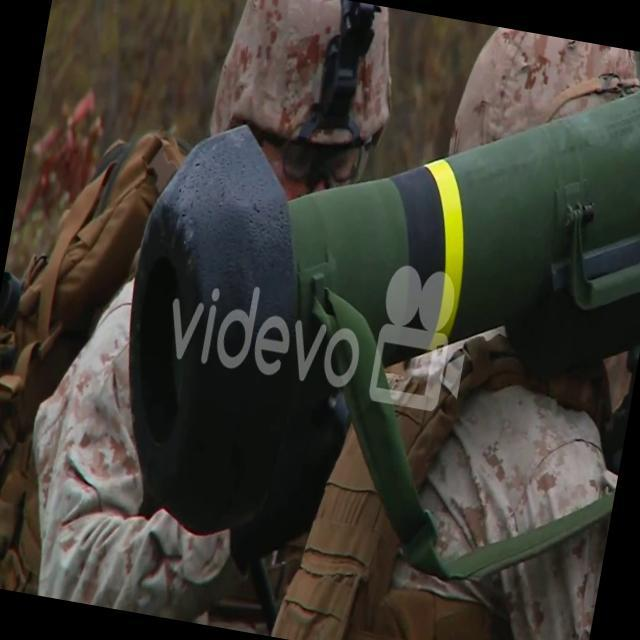rocket: (98, 0, 640, 600)
